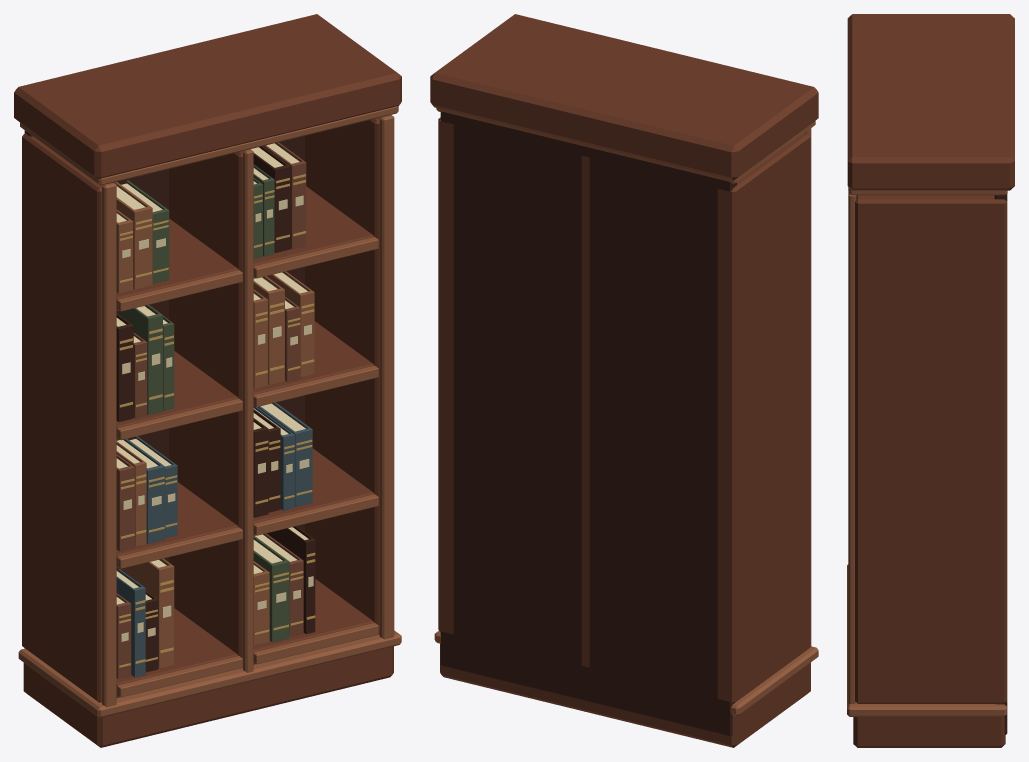
The model's file is bookshelf_02.glb.
3 views of the same model, side by side, from view 1: azimuth 30°, elevation 25°; view 2: azimuth 150°, elevation 25°; view 3: azimuth 270°, elevation 25° (orthographic). The views are drawn at different scales.
Visible parts, largest first — view 1: Stile_0, Cornice, Stile_2, Stile_1, Base, StileFace_2, StileFace_0, BaseLip, StileFace_1, Shelf_0_3, Shelf_1_3, Back (+46 smaller); view 2: Back, Stile_0, Cornice, Stile_2, Base, Stile_1, BaseLip, CorniceEdge, StileFace_0; view 3: Stile_2, Cornice, Base, StileFace_2, BaseLip, CorniceEdge.
Part boxes in pixels (left/top/right/bottom): Stile_0: left=22, top=133, right=102, bottom=702; Cornice: left=14, top=14, right=401, bottom=179; Stile_2: left=305, top=117, right=380, bottom=634; Stile_1: left=169, top=151, right=243, bottom=658; Base: left=23, top=646, right=393, bottom=747; StileFace_2: left=379, top=115, right=394, bottom=639; StileFace_0: left=102, top=182, right=116, bottom=707; BaseLip: left=18, top=630, right=401, bottom=717; StileFace_1: left=243, top=149, right=253, bottom=672; Shelf_0_3: left=116, top=219, right=238, bottom=311; Shelf_1_3: left=253, top=186, right=373, bottom=278; Back: left=24, top=130, right=304, bottom=561; Back: left=440, top=111, right=736, bottom=736; Stile_0: left=717, top=133, right=810, bottom=703; Cornice: left=430, top=14, right=818, bottom=180; Stile_2: left=438, top=117, right=453, bottom=634; Base: left=440, top=643, right=810, bottom=747; Stile_1: left=581, top=155, right=589, bottom=667; BaseLip: left=434, top=631, right=818, bottom=715; CorniceEdge: left=436, top=108, right=815, bottom=183; StileFace_0: left=805, top=128, right=811, bottom=646; Stile_2: left=855, top=195, right=1007, bottom=703; Cornice: left=847, top=14, right=1014, bottom=190; Base: left=853, top=717, right=1005, bottom=747; StileFace_2: left=848, top=191, right=856, bottom=704; BaseLip: left=847, top=564, right=1006, bottom=716; CorniceEdge: left=849, top=188, right=1007, bottom=195.
Bounding box in the file's own units: 0.9833 × 1.85 × 0.4743.
